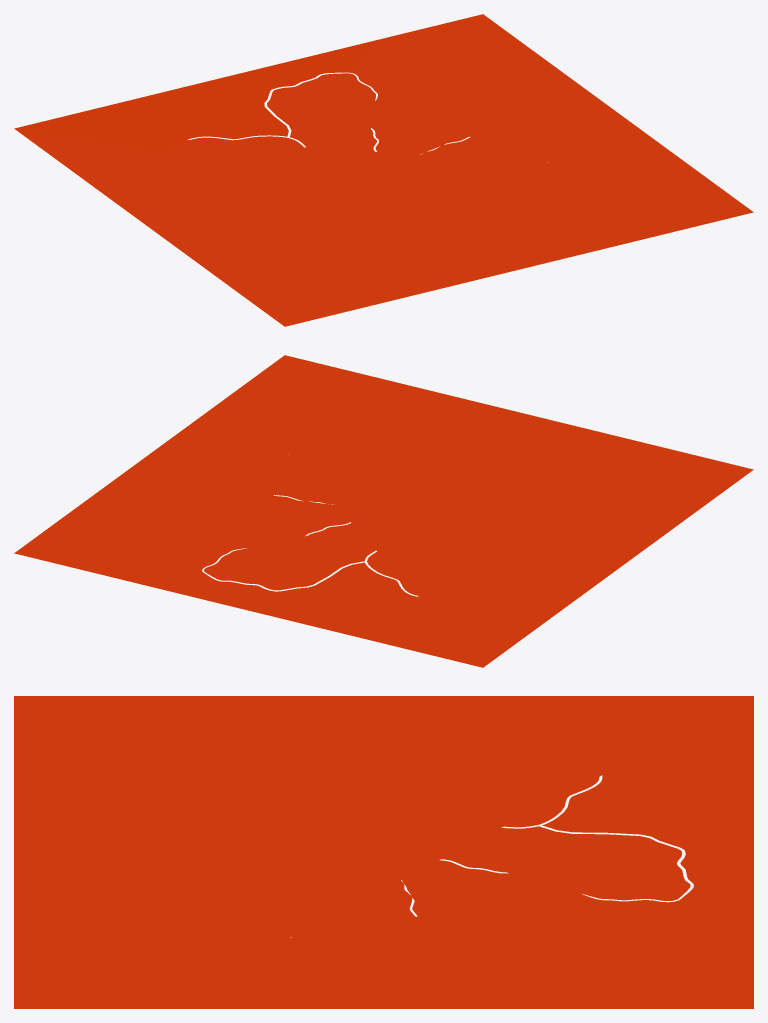
File: cmap.fbx
3 views of the same model, one above another, from view 1: azimuth 30°, elevation 25°; view 2: azimuth 150°, elevation 25°; view 3: azimuth 270°, elevation 25° (orthographic). The views are drawn at different scales.
Parts seen in each view (by area): view 1: Plane.002; view 2: Plane.002; view 3: Plane.002.
Boxes of the visible parts, box(x1,y1,x2,y2) form: Plane.002: box(14, 14, 753, 326); Plane.002: box(14, 355, 753, 667); Plane.002: box(14, 696, 753, 1008).
Size of the model in its own units: 99797 by 179 by 99797.
